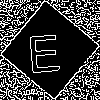E: (25, 25, 62, 74)
